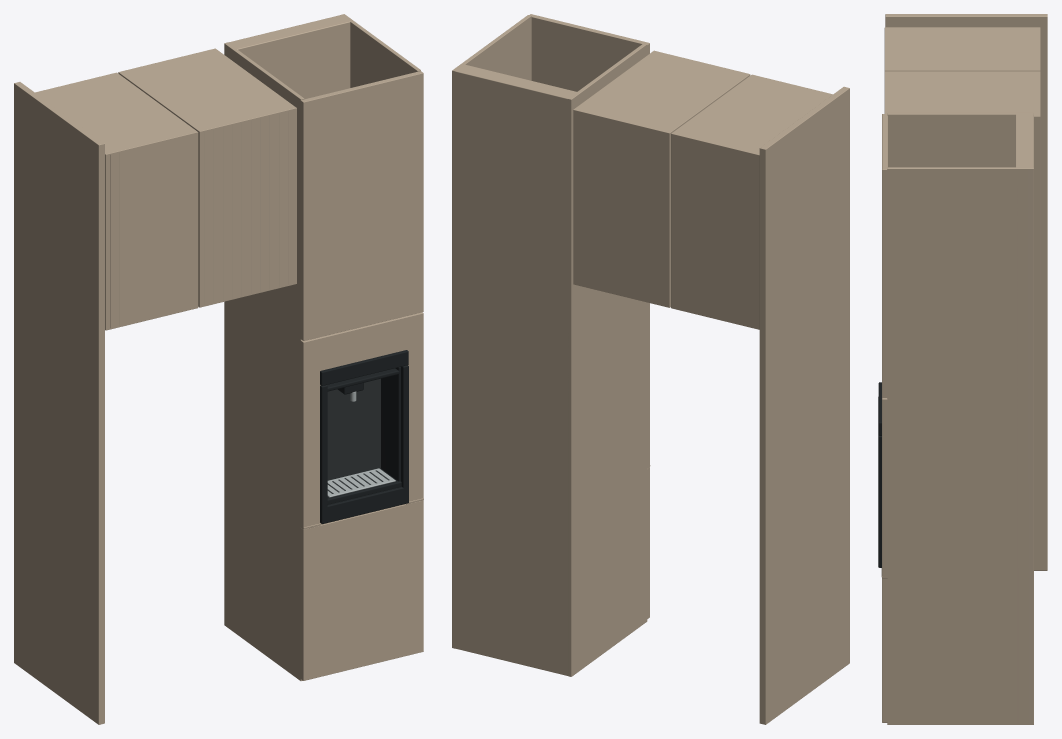
The picture shows the model from 3 angles, left to right: view 1: azimuth 30°, elevation 25°; view 2: azimuth 150°, elevation 25°; view 3: azimuth 270°, elevation 25°; orthographic projection. The views are drawn at different scales.
Parts seen in each view (by area): view 1: Fridge left wood surround, Cabinet dispenser black top, Dispenser recessed back, Fridge upper cupboard left subtle grain, Dispenser silver drip tray; view 2: Fridge left wood surround; view 3: Fridge left wood surround, Cabinet dispenser black top.
Boxes of the visible parts, x1,y1,x2,y2 form: Fridge left wood surround: [14, 14, 423, 724]; Cabinet dispenser black top: [320, 350, 408, 523]; Dispenser recessed back: [327, 378, 389, 493]; Fridge upper cupboard left subtle grain: [110, 111, 288, 327]; Dispenser silver drip tray: [327, 391, 395, 497]; Fridge left wood surround: [452, 14, 849, 724]; Fridge left wood surround: [881, 14, 1047, 724]; Cabinet dispenser black top: [878, 382, 881, 567].
Bounding box in the file's own units: 1.56 × 2.7 × 0.739.
